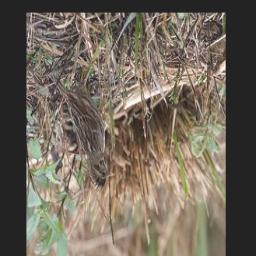Sparrow: (47, 56, 113, 193)
